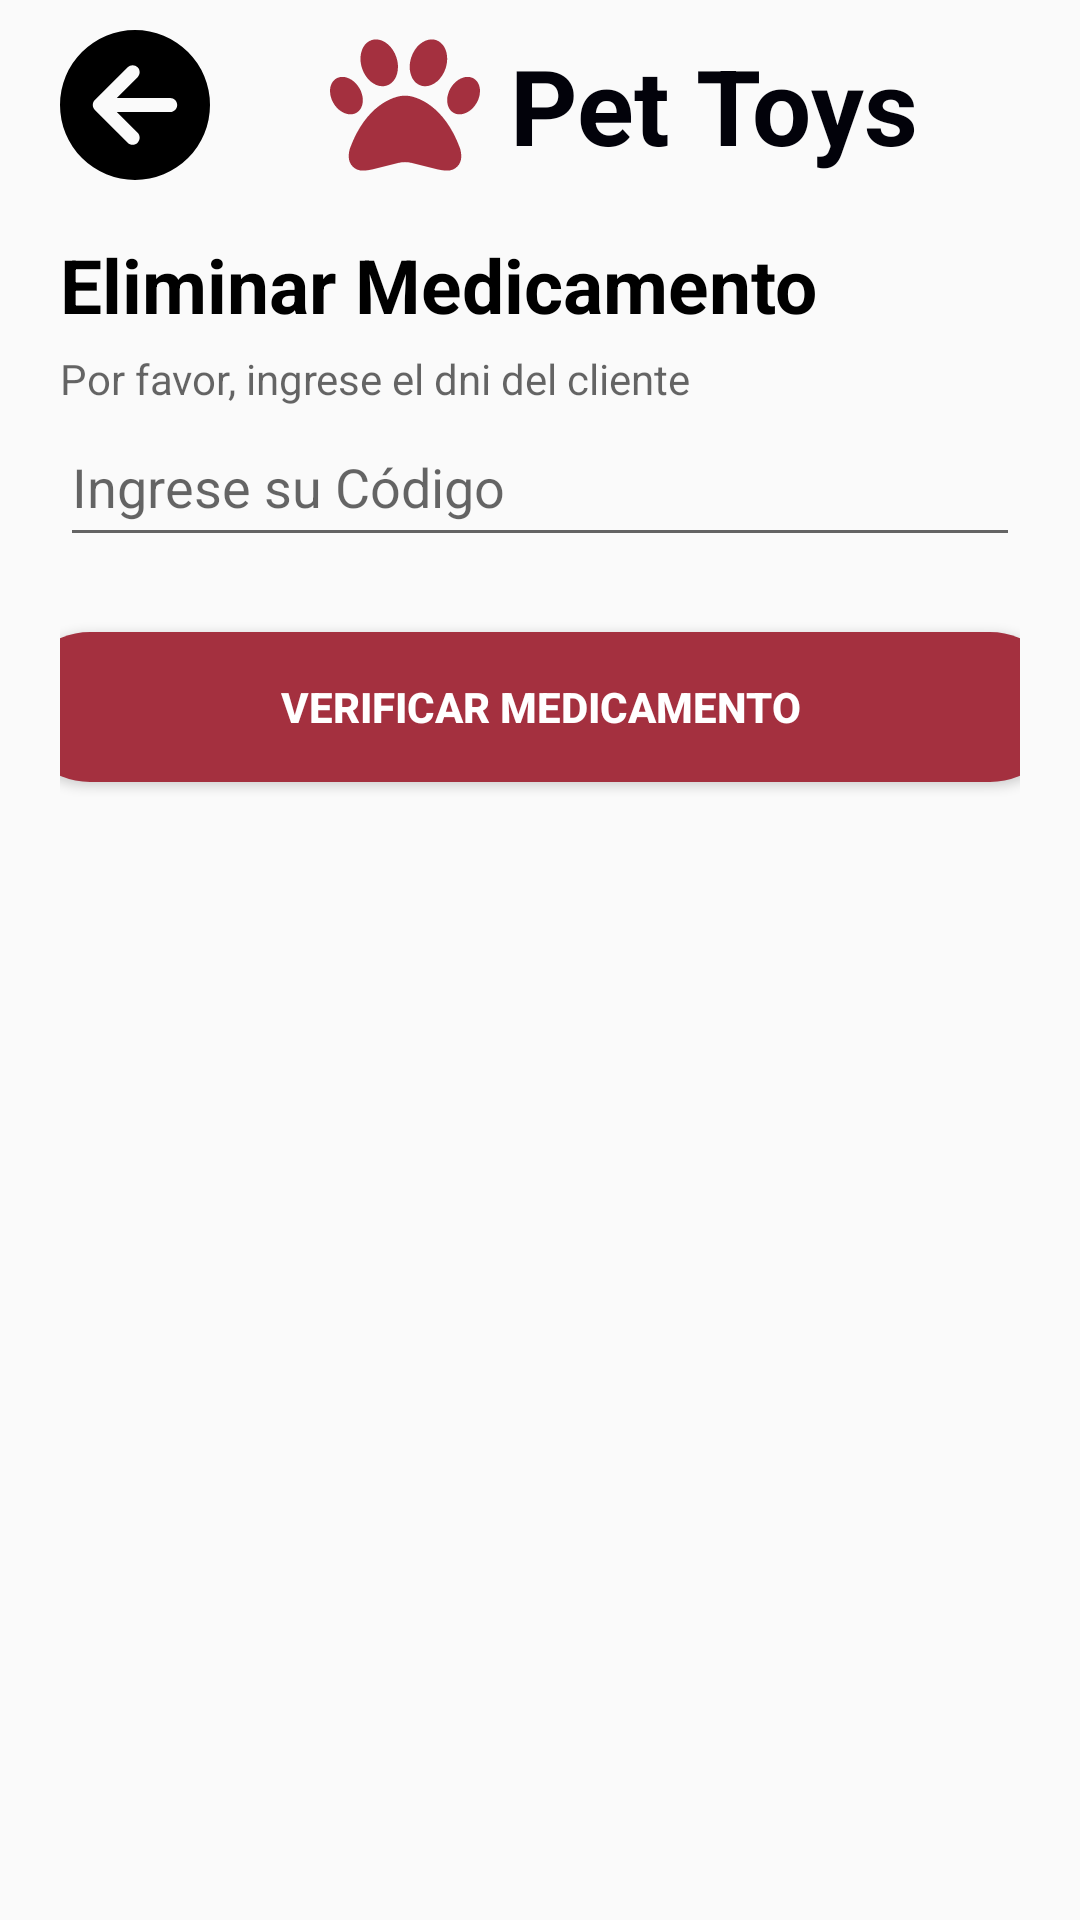

Named icons in this screenshot (1080×1920) and their centers, [x,y]:
paw: [405,105]
